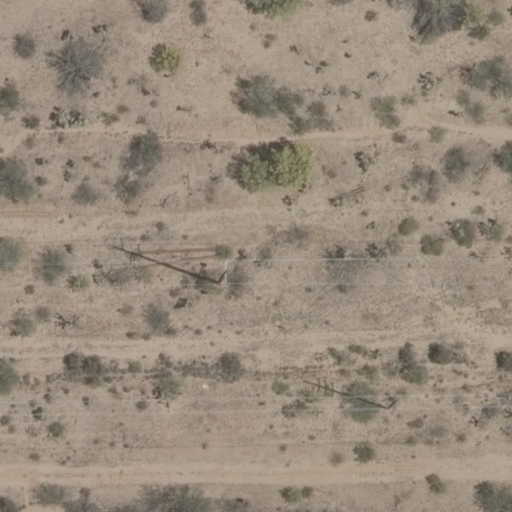DT: (208, 257, 234, 289), (380, 389, 404, 414)
